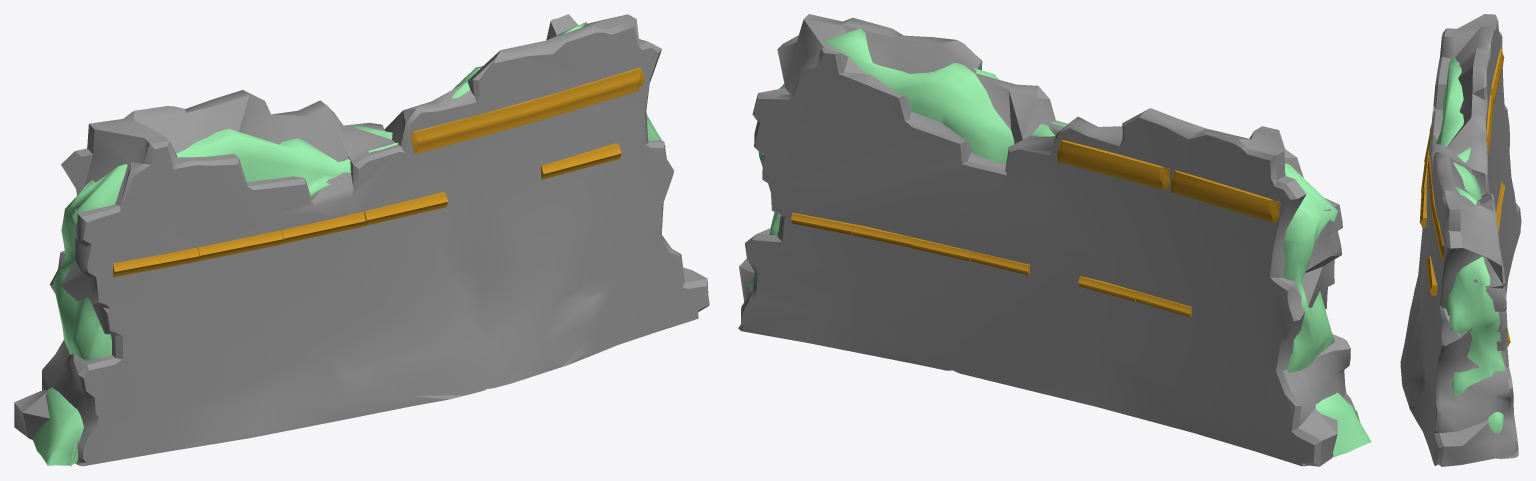
File: SM_Castle_Wall_A.fbx
The picture shows the model from 3 angles, left to right: view 1: azimuth 30°, elevation 25°; view 2: azimuth 150°, elevation 25°; view 3: azimuth 270°, elevation 25°; orthographic projection. The views are drawn at different scales.
Parts seen in each view (by area): view 1: SM_Castle_Wall_A_LOD0; view 2: SM_Castle_Wall_A_LOD0; view 3: SM_Castle_Wall_A_LOD0.
Boxes of the visible parts, box(x1,y1,x2,y2) form: SM_Castle_Wall_A_LOD0: box(14, 14, 709, 466); SM_Castle_Wall_A_LOD0: box(738, 14, 1371, 466); SM_Castle_Wall_A_LOD0: box(1400, 14, 1521, 466).
Size of what is drawn, in the model's own units: 1682 by 763 by 347.
